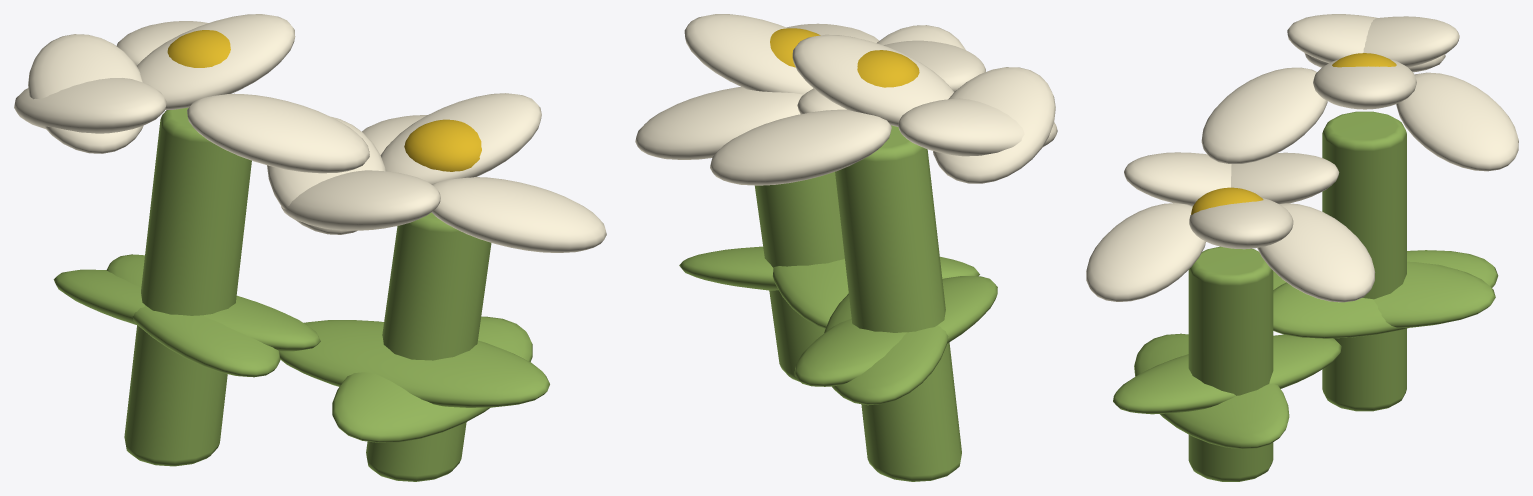
Rendered from prop_flowers_white.glb.
3 views of the same model, side by side, from view 1: azimuth 30°, elevation 25°; view 2: azimuth 150°, elevation 25°; view 3: azimuth 270°, elevation 25° (orthographic). The views are drawn at different scales.
Parts seen in each view (by area): view 1: fwh_stem, fwh2_stem, fwh2_leaf1, fwh_petal2, fwh2_petal2, fwh2_leaf0, fwh_petal0, fwh2_petal4, fwh2_petal0, fwh_leaf1, fwh_leaf0, fwh_petal4 (+6 smaller); view 2: fwh_stem, fwh_petal3, fwh2_stem, fwh2_petal3, fwh_petal0, fwh_petal4, fwh_leaf1, fwh2_petal0, fwh_petal1, fwh_leaf0, fwh2_leaf0, fwh2_leaf1 (+6 smaller); view 3: fwh_stem, fwh2_stem, fwh_petal2, fwh_petal3, fwh2_petal2, fwh2_petal3, fwh2_leaf1, fwh2_leaf0, fwh_leaf0, fwh_leaf1, fwh2_petal4, fwh2_petal1 (+6 smaller).
Part boxes in pixels (left/top/right/bottom): fwh_stem: left=124, top=107, right=251, bottom=466; fwh2_stem: left=366, top=212, right=491, bottom=481; fwh2_leaf1: left=279, top=320, right=549, bottom=407; fwh_petal2: left=187, top=93, right=369, bottom=173; fwh2_petal2: left=431, top=177, right=606, bottom=252; fwh2_leaf0: left=332, top=316, right=532, bottom=442; fwh_petal0: left=137, top=14, right=295, bottom=109; fwh2_petal4: left=281, top=170, right=440, bottom=230; fwh2_petal0: left=380, top=93, right=541, bottom=184; fwh_leaf1: left=106, top=254, right=280, bottom=377; fwh_leaf0: left=53, top=269, right=320, bottom=351; fwh_petal4: left=14, top=78, right=166, bottom=133; fwh_stem: left=835, top=125, right=961, bottom=481; fwh_petal3: left=710, top=109, right=891, bottom=185; fwh2_stem: left=755, top=172, right=844, bottom=386; fwh2_petal3: left=635, top=87, right=803, bottom=159; fwh_petal0: left=792, top=34, right=954, bottom=126; fwh_petal4: left=933, top=67, right=1055, bottom=183; fwh_leaf1: left=794, top=276, right=997, bottom=386; fwh2_petal0: left=684, top=14, right=813, bottom=94; fwh_petal1: left=898, top=98, right=1057, bottom=156; fwh_leaf0: left=824, top=293, right=948, bottom=405; fwh2_leaf0: left=679, top=246, right=979, bottom=290; fwh2_leaf1: left=773, top=259, right=848, bottom=328; fwh_stem: left=1322, top=111, right=1406, bottom=411; fwh2_stem: left=1188, top=246, right=1273, bottom=481; fwh_petal2: left=1201, top=67, right=1327, bottom=164; fwh_petal3: left=1396, top=72, right=1518, bottom=171; fwh2_petal2: left=1086, top=203, right=1205, bottom=301; fwh2_petal3: left=1257, top=203, right=1375, bottom=302; fwh2_leaf1: left=1113, top=334, right=1341, bottom=414; fwh2_leaf0: left=1134, top=333, right=1289, bottom=449; fwh_leaf0: left=1273, top=250, right=1498, bottom=338; fwh_leaf1: left=1273, top=261, right=1495, bottom=327; fwh2_petal4: left=1124, top=152, right=1231, bottom=206; fwh2_petal1: left=1231, top=152, right=1339, bottom=203.
Bounding box in the file's own units: 0.3904 × 0.3522 × 0.3882.
